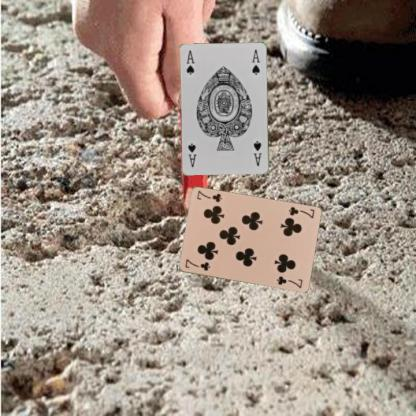7c: (286, 204, 316, 220), (182, 257, 211, 272)
As: (251, 139, 263, 168), (184, 48, 196, 76)
